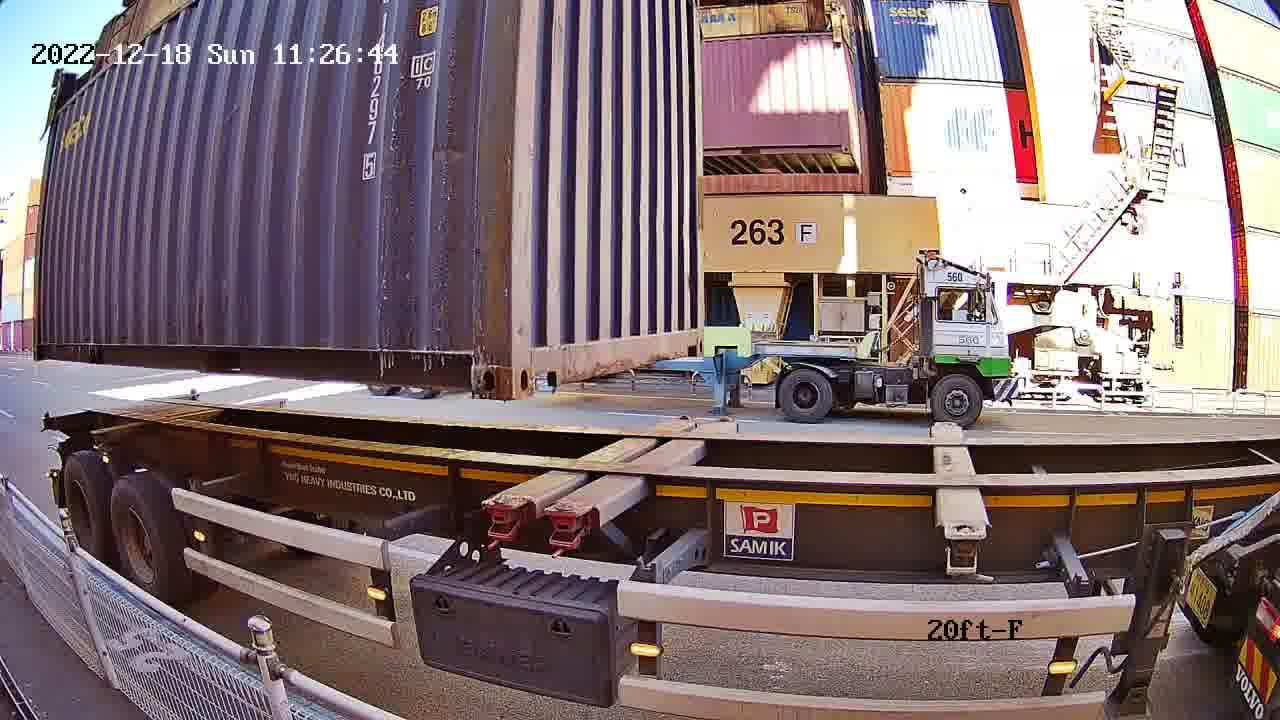Chassis: (485, 417, 695, 504), (546, 423, 737, 515)
Cone: (544, 504, 596, 559), (480, 495, 528, 550)
Hole_L: (511, 317, 571, 398)
Hole_R: (439, 321, 512, 397), (677, 318, 705, 358)
Tire: (110, 480, 171, 597), (65, 455, 105, 567)
